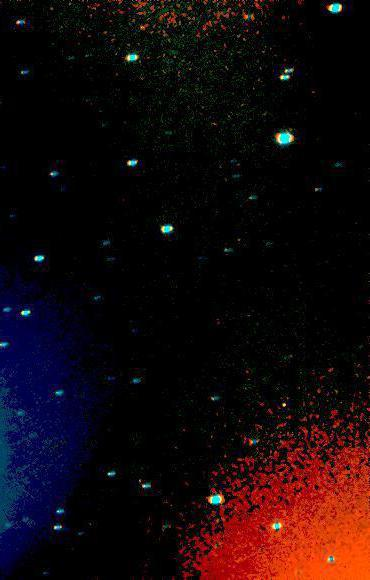star: (269, 388, 299, 418)
